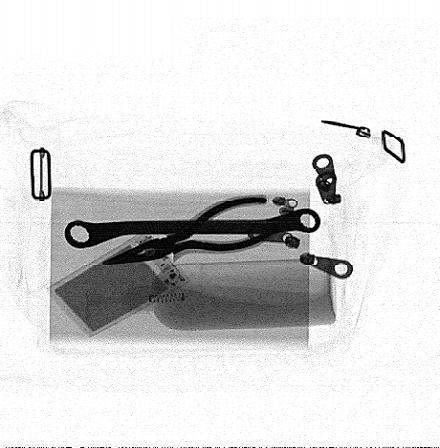Pliers: (100, 195, 292, 265)
Powerbank: (46, 229, 192, 339)
Wrench: (64, 207, 322, 249)
